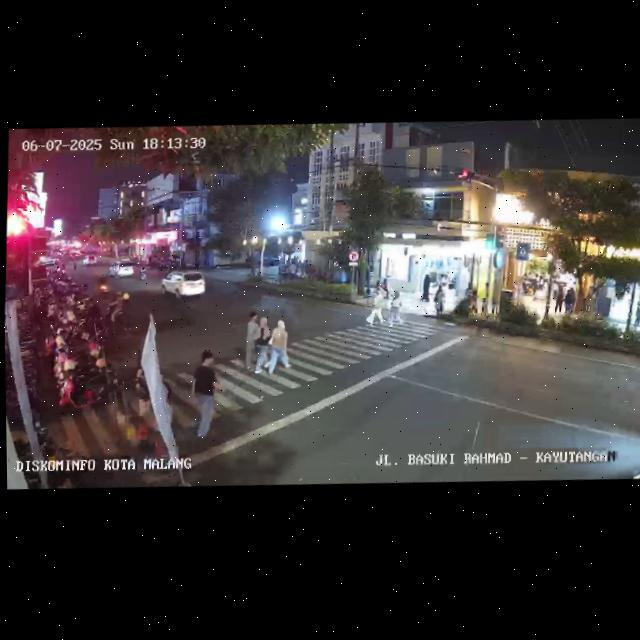car: (160, 266, 207, 302), (108, 259, 143, 281)
motorcycle: (96, 271, 111, 297), (136, 263, 148, 282)
person: (189, 351, 223, 448), (132, 348, 153, 419), (268, 316, 290, 379), (250, 316, 271, 375), (241, 311, 259, 370), (366, 289, 382, 328), (389, 288, 403, 326), (562, 283, 576, 316), (433, 282, 445, 315), (419, 273, 431, 303), (553, 282, 563, 315), (634, 299, 640, 329)
